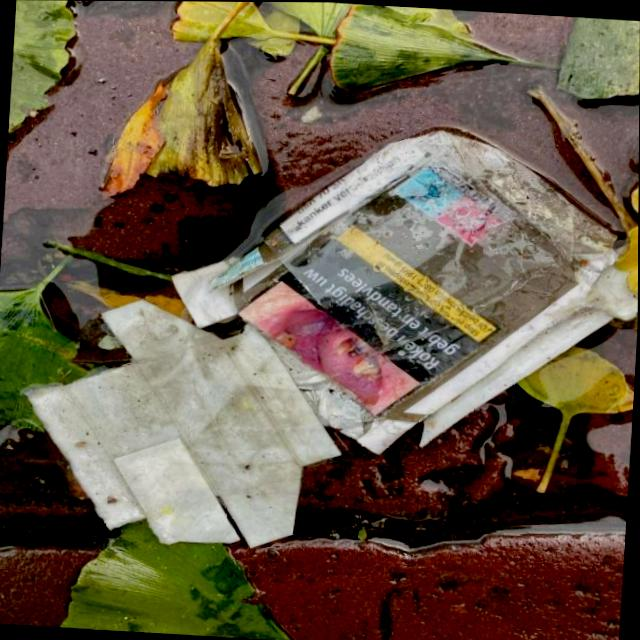Paper: (5, 97, 639, 574)
